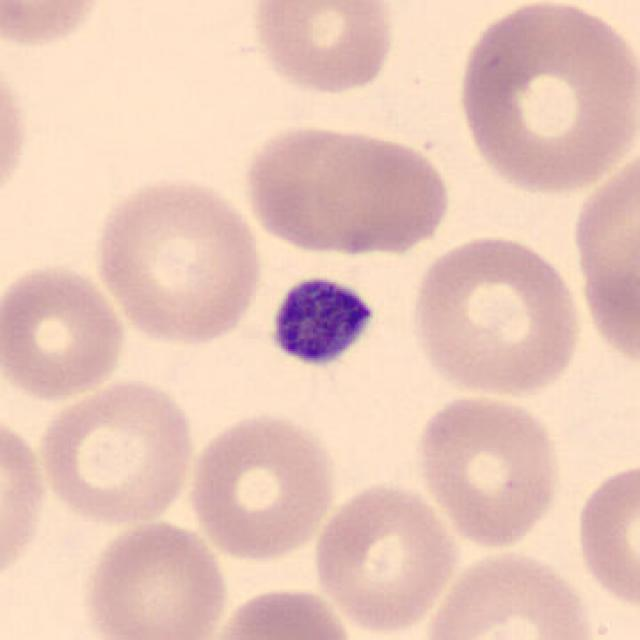Platelets: (260, 266, 384, 374)
RBC: (451, 0, 638, 197), (89, 171, 267, 349), (404, 229, 588, 400), (34, 374, 199, 529), (409, 389, 565, 552), (183, 407, 340, 564), (310, 478, 462, 636), (238, 118, 395, 258), (306, 127, 453, 257), (0, 259, 130, 404), (79, 516, 229, 640), (567, 140, 640, 378), (420, 545, 599, 640), (247, 0, 400, 99), (570, 455, 640, 617), (0, 406, 52, 594), (203, 582, 357, 640), (0, 0, 114, 53), (0, 50, 32, 212)
